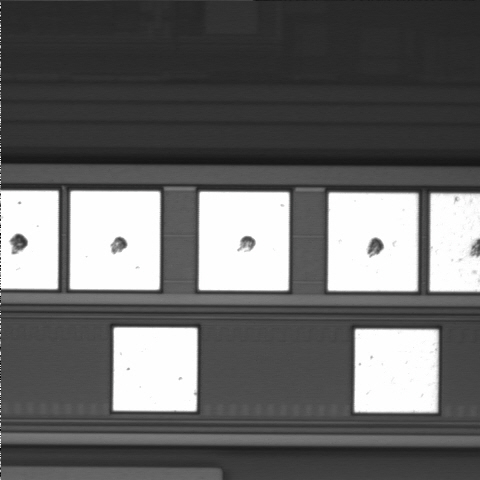pad: (70, 191, 160, 290), (199, 192, 289, 290), (328, 193, 418, 291), (113, 328, 197, 411), (354, 329, 438, 412)
